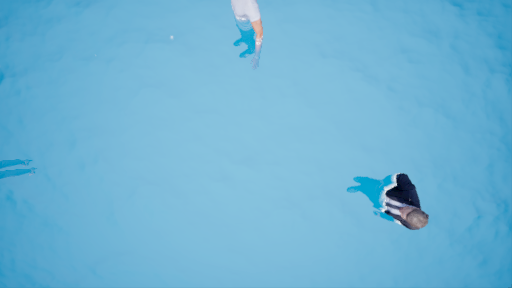person: (353, 161, 431, 238), (230, 2, 274, 70)
